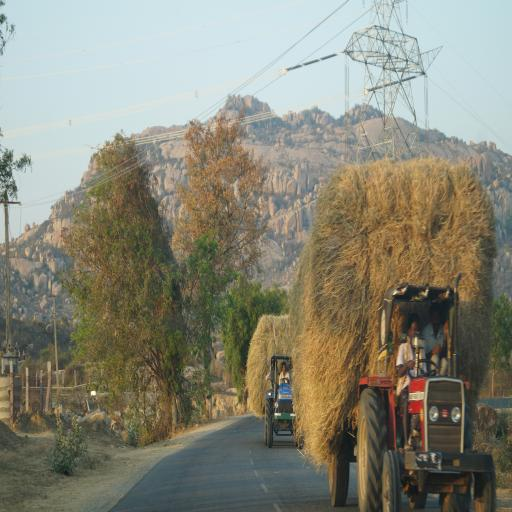tractor: (360, 285, 494, 512), (265, 354, 306, 449)
